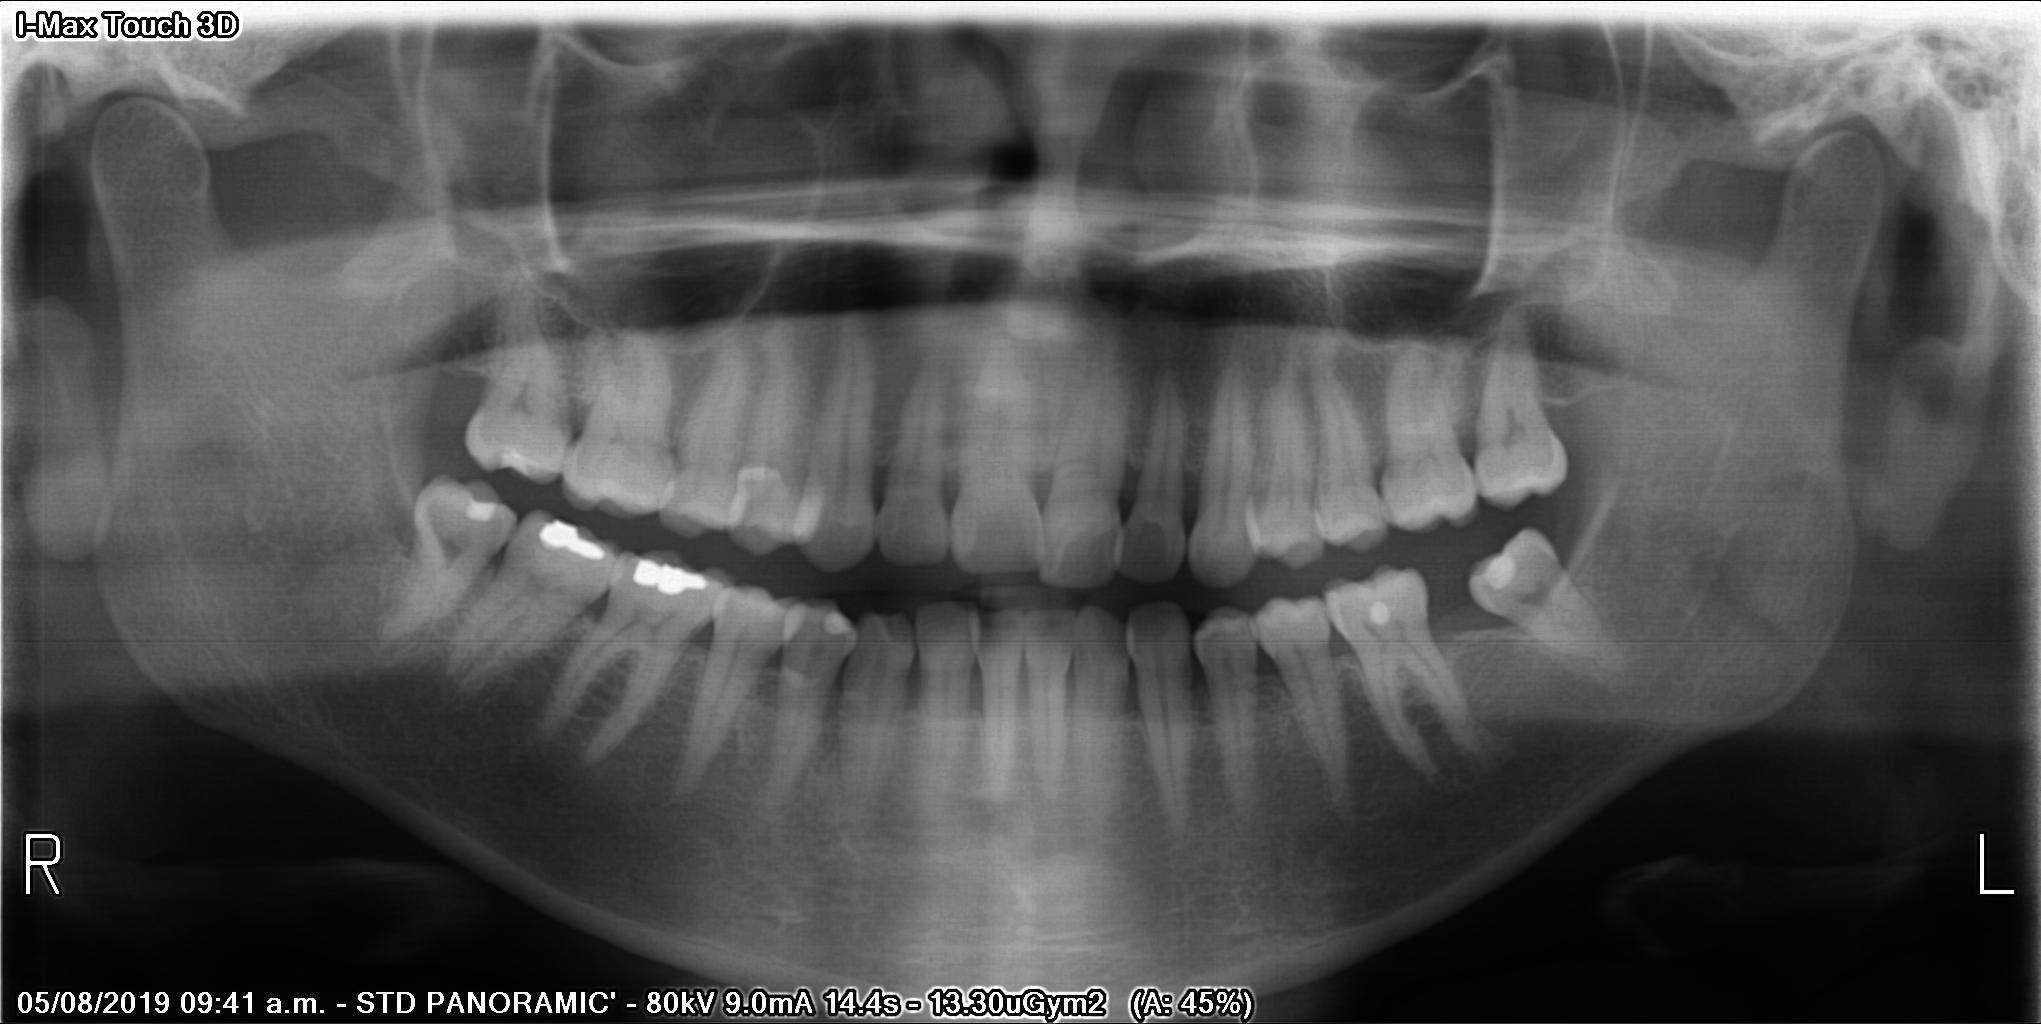Çürük: (624, 538, 713, 605), (533, 508, 610, 571), (451, 482, 505, 530), (1478, 554, 1527, 596), (815, 603, 847, 644)
